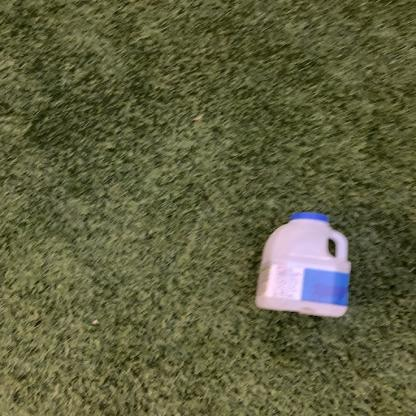trash: (254, 211, 353, 321)
